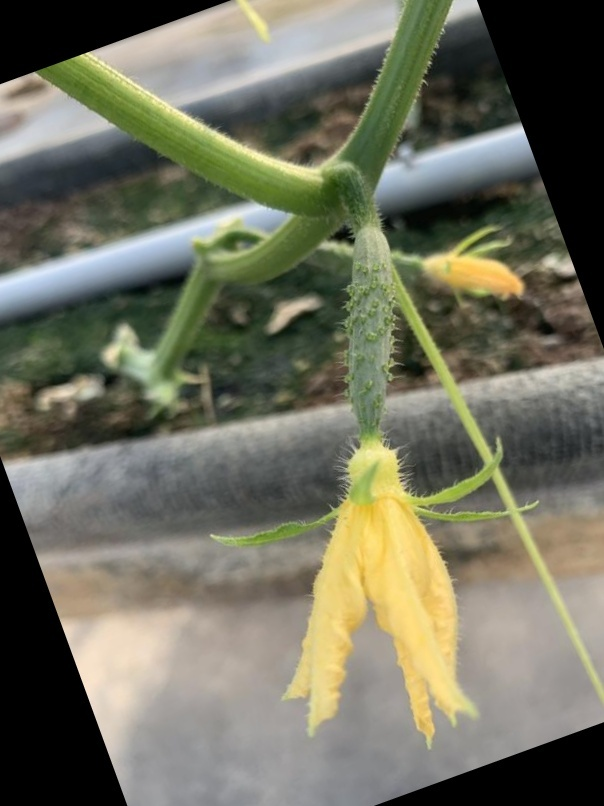bear: (282, 218, 455, 740)
